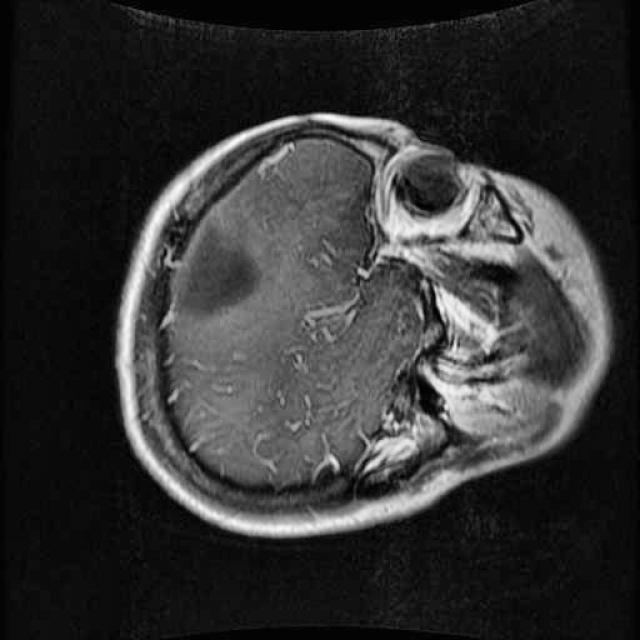Non-Tumor: (156, 205, 288, 338)
